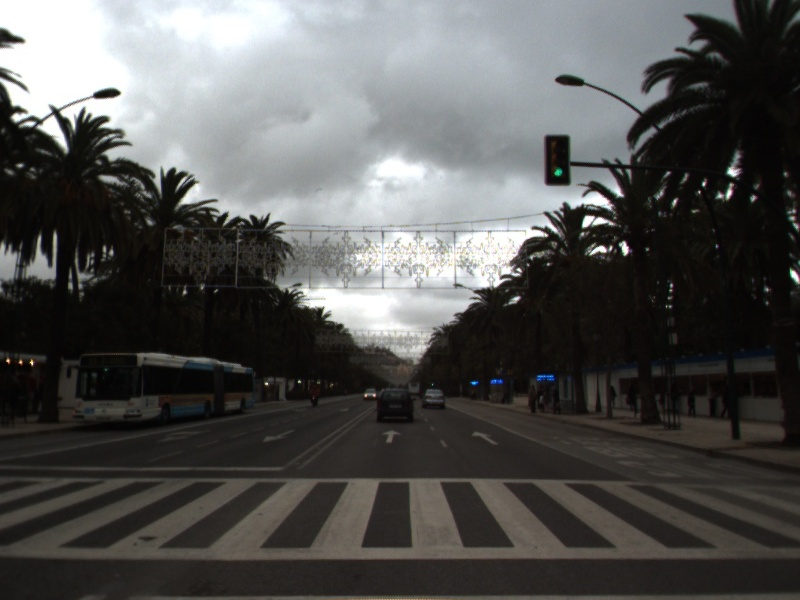STRAIGHT: (469, 429, 501, 447), (380, 428, 404, 445)
